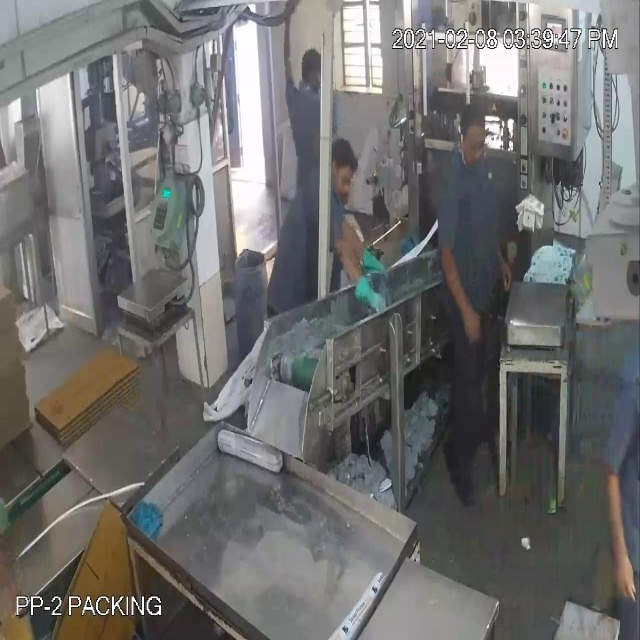Sin_guantes: (598, 437, 636, 615), (435, 229, 486, 354)
